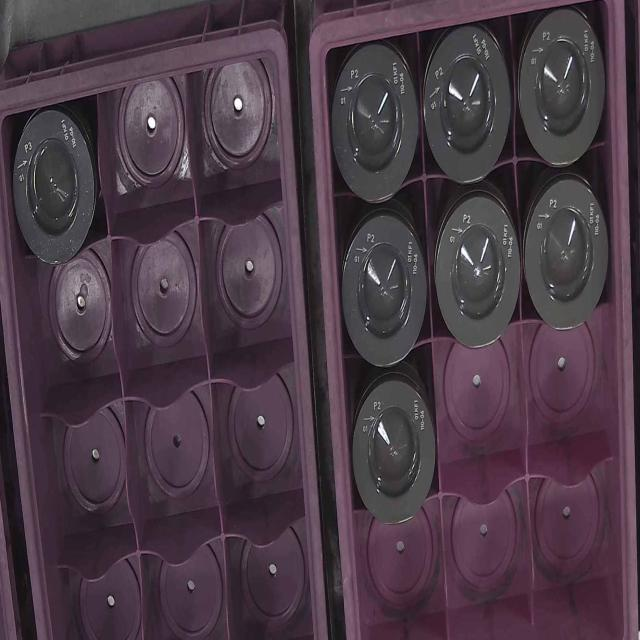P2: (519, 12, 607, 172), (330, 46, 416, 202), (424, 27, 509, 182), (434, 196, 520, 346), (344, 213, 425, 368), (524, 182, 607, 332), (352, 380, 436, 526)
P3: (9, 116, 99, 263)
